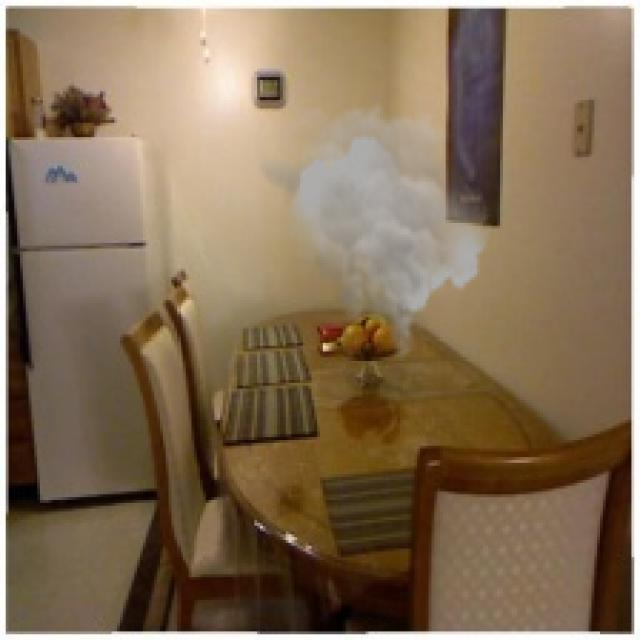Smoke: (257, 100, 492, 363)
